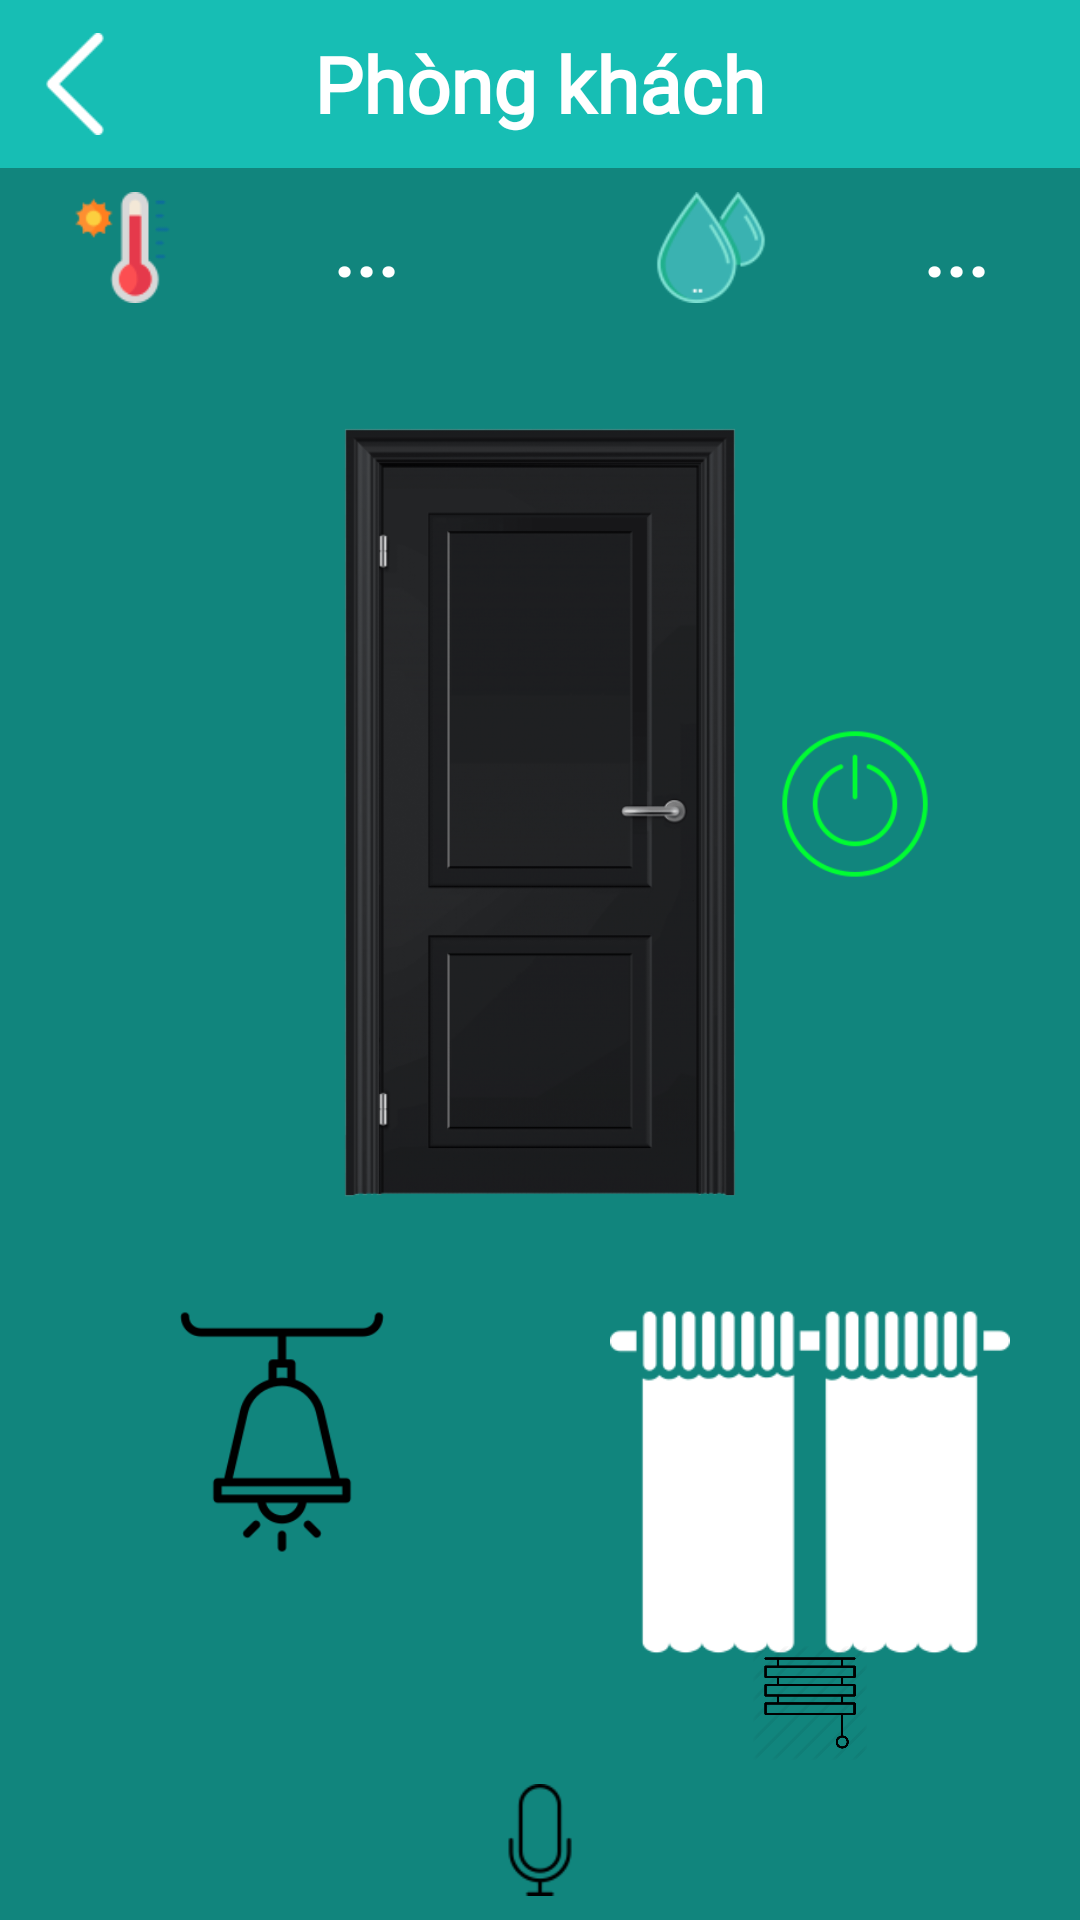

Named icons in this screenshot (1080x1920) and their centers, point (x, y):
back: point (75, 84)
hot: point (121, 247)
humidity: point (711, 247)
microphone: point (540, 1840)
off lamp: point (281, 1432)
